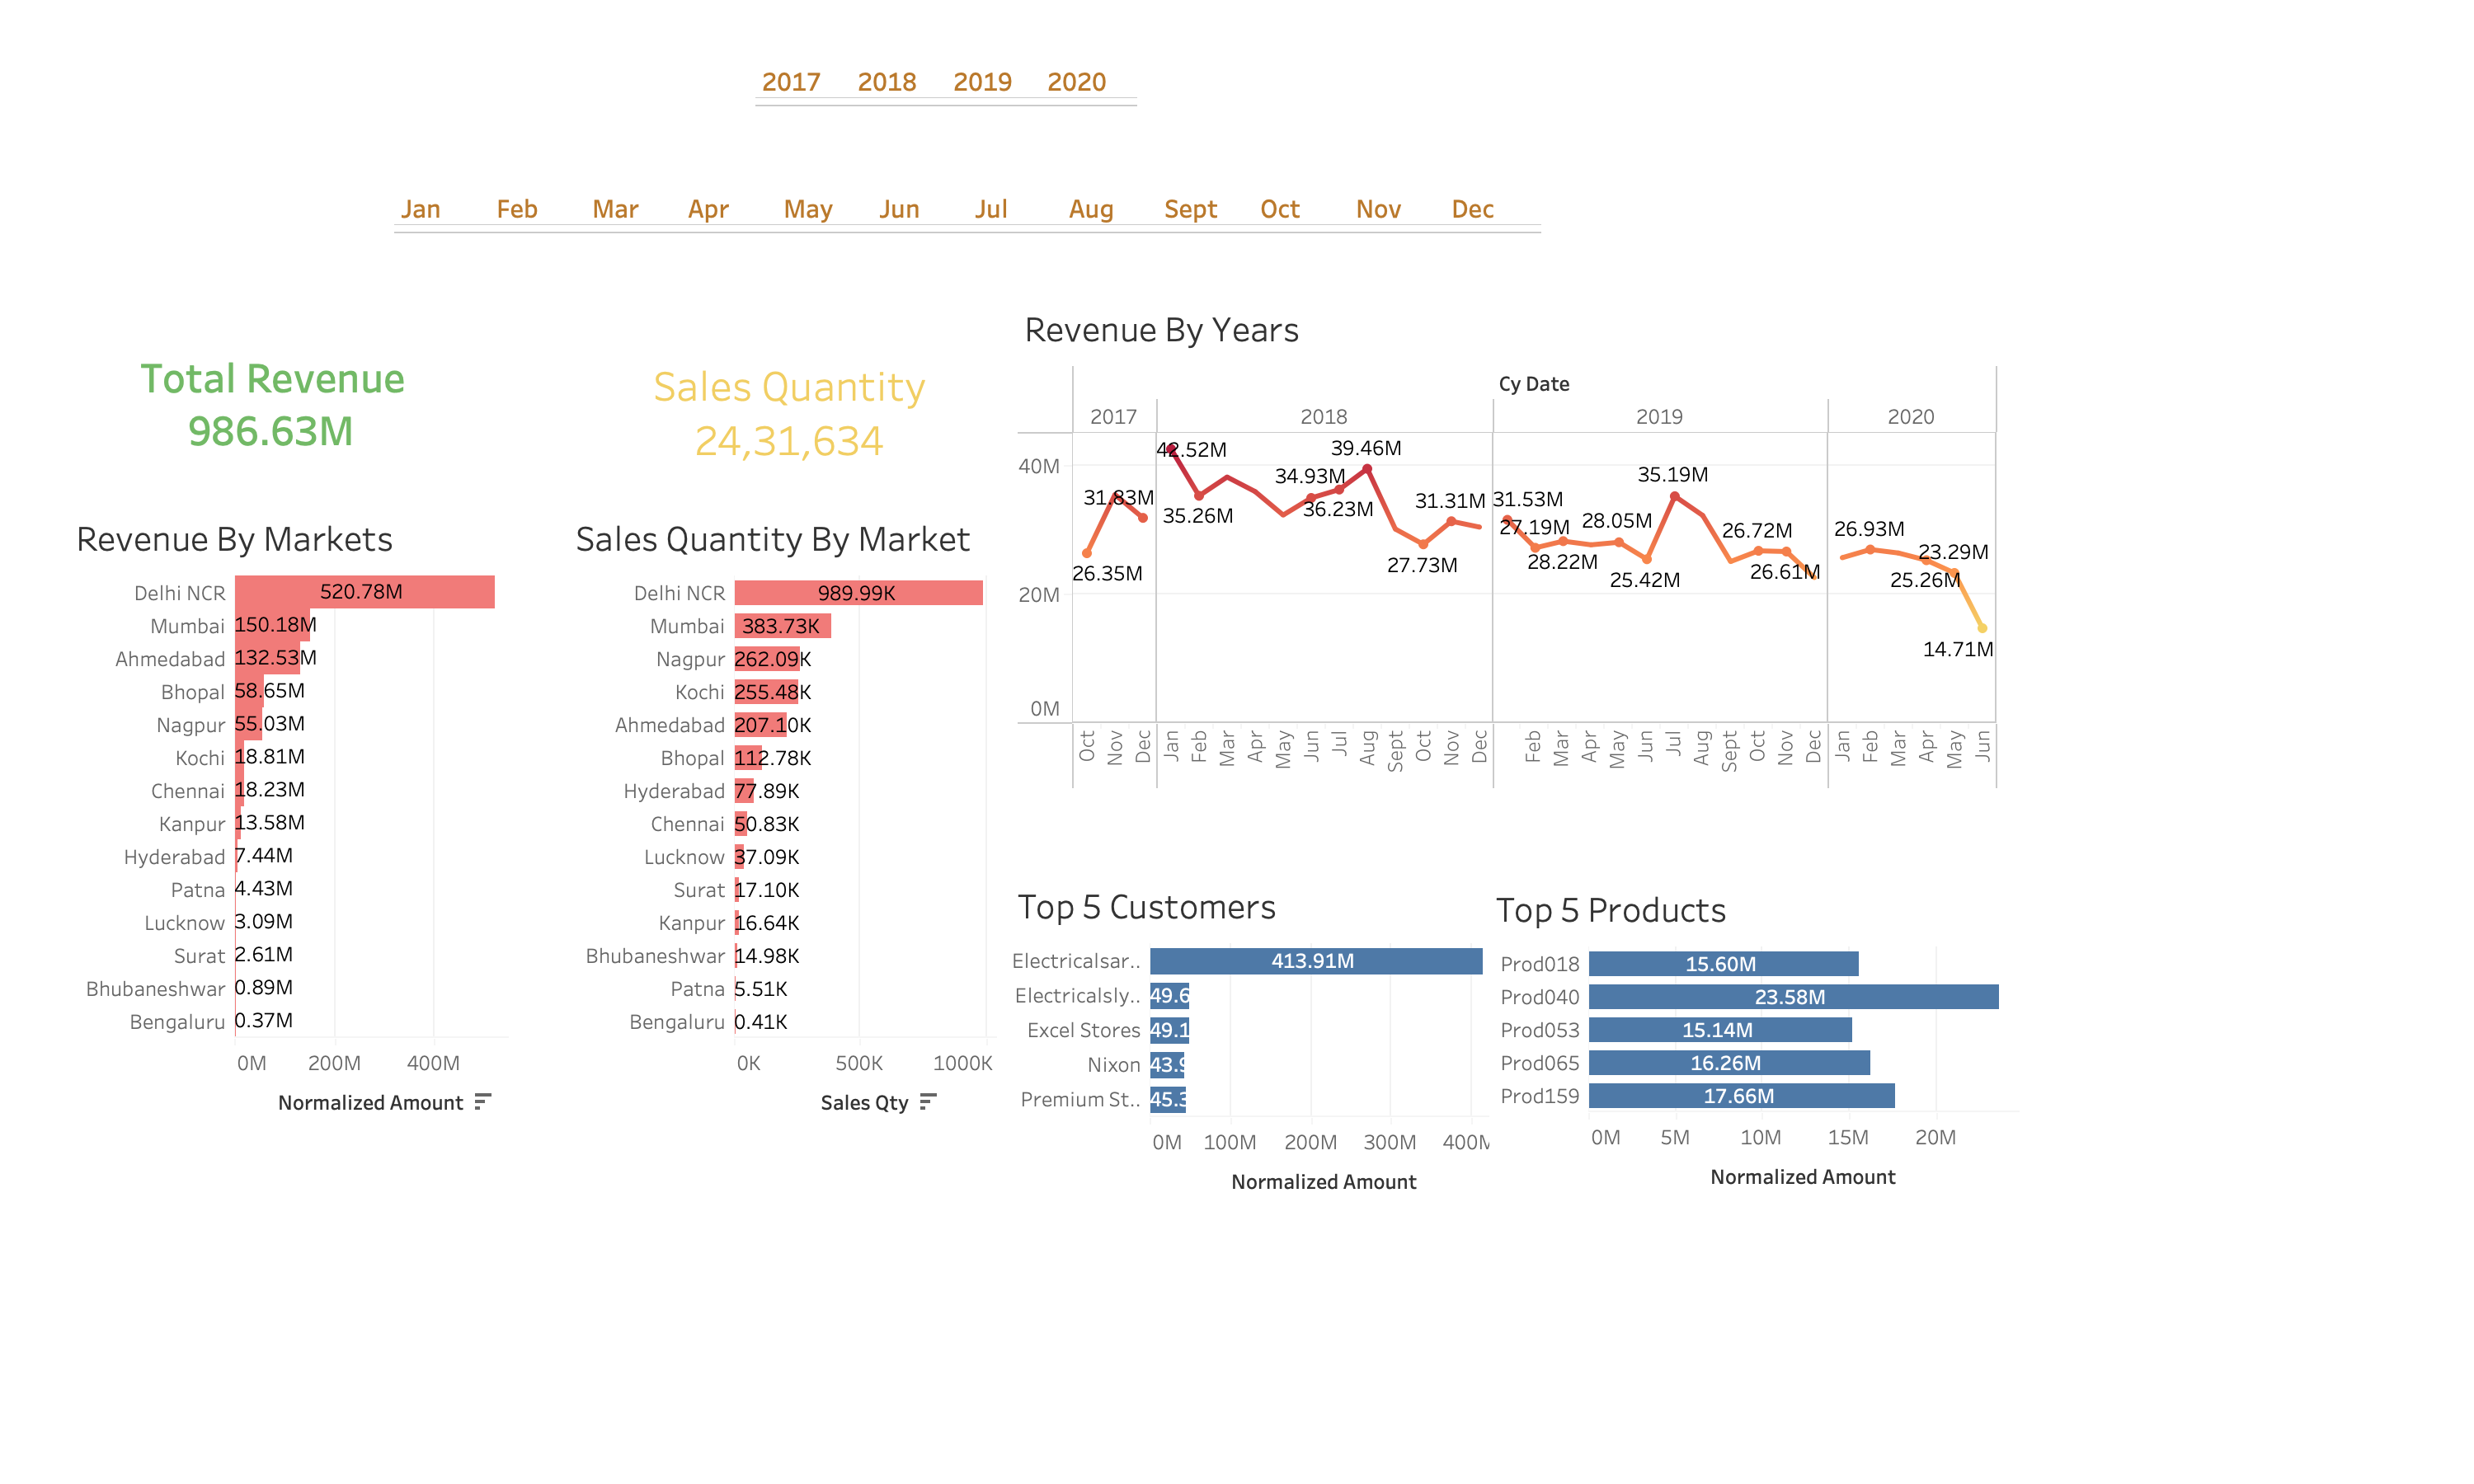

This screenshot's page, from the dashboard's own definition file:
{"tool":"tableau","page":{"name":"Dashboard 1","canvas":[1500,900],"ordinal":0},"visuals":[{"type":"worksheet","title":"Year","mark":"Automatic","cols":["cy_date"],"box":[458,24,232,64]},{"type":"worksheet","title":"Month","mark":"Automatic","cols":["cy_date"],"box":[239,101,696,95]},{"type":"worksheet","title":"Revenue By Years","mark":"Automatic","rows":["Calculation_6512134701700653056"],"cols":["cy_date","cy_date"],"box":[617,179,594,300]},{"type":"worksheet","title":"Revenue","mark":"Automatic","box":[81,197,169,102]},{"type":"worksheet","title":"Quatity","mark":"Automatic","box":[392,202,174,97]},{"type":"worksheet","title":"Revenue By Markets","mark":"Automatic","rows":["markets_name"],"cols":["Calculation_6512134701700653056"],"box":[42,306,270,467]},{"type":"worksheet","title":"Sales Quantity By Market","mark":"Automatic","rows":["markets_name"],"cols":["sales_qty"],"box":[345,306,259,483]},{"type":"worksheet","title":"Top 5 Customers","mark":"Automatic","rows":["custmer_name"],"cols":["Calculation_6512134701700653056"],"box":[613,529,296,213]},{"type":"worksheet","title":"Top 5 Products","mark":"Automatic","rows":["product_code (products)"],"cols":["Calculation_6512134701700653056"],"box":[903,531,321,204]}]}

Visuals, with their boxes in screenshot pixels (x1, y1, x2, y2), scaled from the page's 1500x900 canvas onto the 2474x1484 screenshot:
"Year" worksheet: [left=755, top=40, right=1138, bottom=145]
"Month" worksheet: [left=394, top=167, right=1542, bottom=323]
"Revenue By Years" worksheet: [left=1018, top=295, right=1997, bottom=790]
"Revenue" worksheet: [left=134, top=325, right=412, bottom=493]
"Quatity" worksheet: [left=647, top=333, right=934, bottom=493]
"Revenue By Markets" worksheet: [left=69, top=505, right=515, bottom=1275]
"Sales Quantity By Market" worksheet: [left=569, top=505, right=996, bottom=1301]
"Top 5 Customers" worksheet: [left=1011, top=872, right=1499, bottom=1223]
"Top 5 Products" worksheet: [left=1489, top=876, right=2019, bottom=1212]
